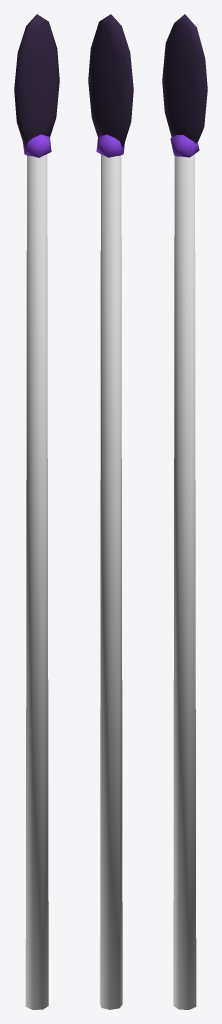
The model's file is dark_lance.glb.
3 renders of one model, left to right at view 1: azimuth 30°, elevation 25°; view 2: azimuth 150°, elevation 25°; view 3: azimuth 330°, elevation 25°, orthographic.
Visible parts, largest first — view 1: dark_lance_v0; view 2: dark_lance_v0; view 3: dark_lance_v0.
Boxes of the visible parts, box(x1,y1,x2,y2) form: dark_lance_v0: box(14, 14, 59, 1009); dark_lance_v0: box(88, 14, 133, 1009); dark_lance_v0: box(162, 14, 207, 1009).
Size of the model in its own units: 0.0761 by 1.67 by 0.0425.
